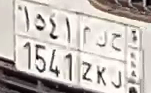1: (64, 17, 74, 82), (22, 6, 32, 70)
4: (48, 13, 61, 78)
5: (33, 13, 48, 73)
J: (110, 31, 125, 89)
K: (97, 30, 110, 86)
Z: (82, 26, 93, 82)
